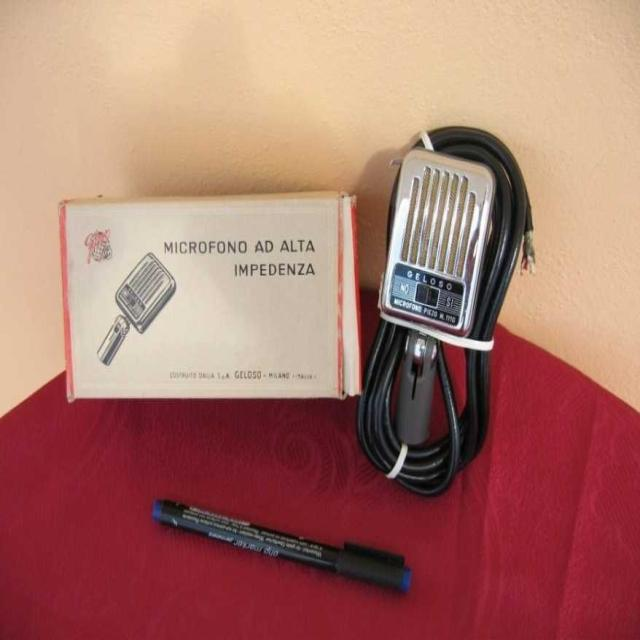microphone: (384, 146, 496, 346), (96, 252, 176, 368)
